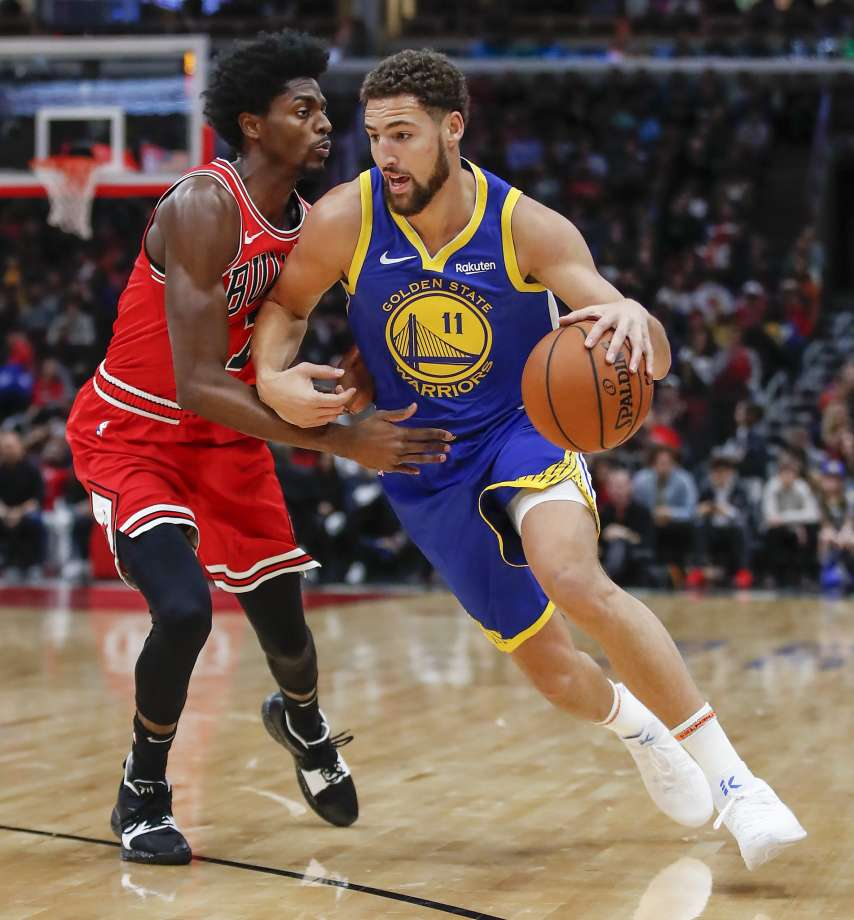Basketball: (514, 315, 656, 453)
